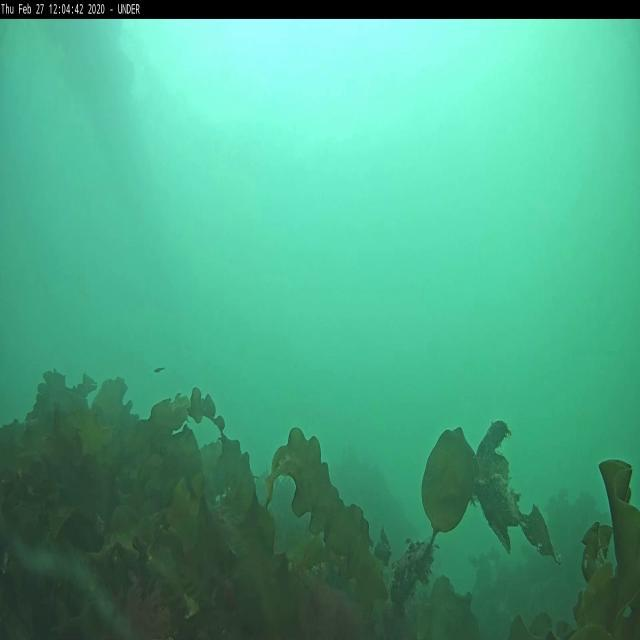fish: (152, 364, 166, 373)
